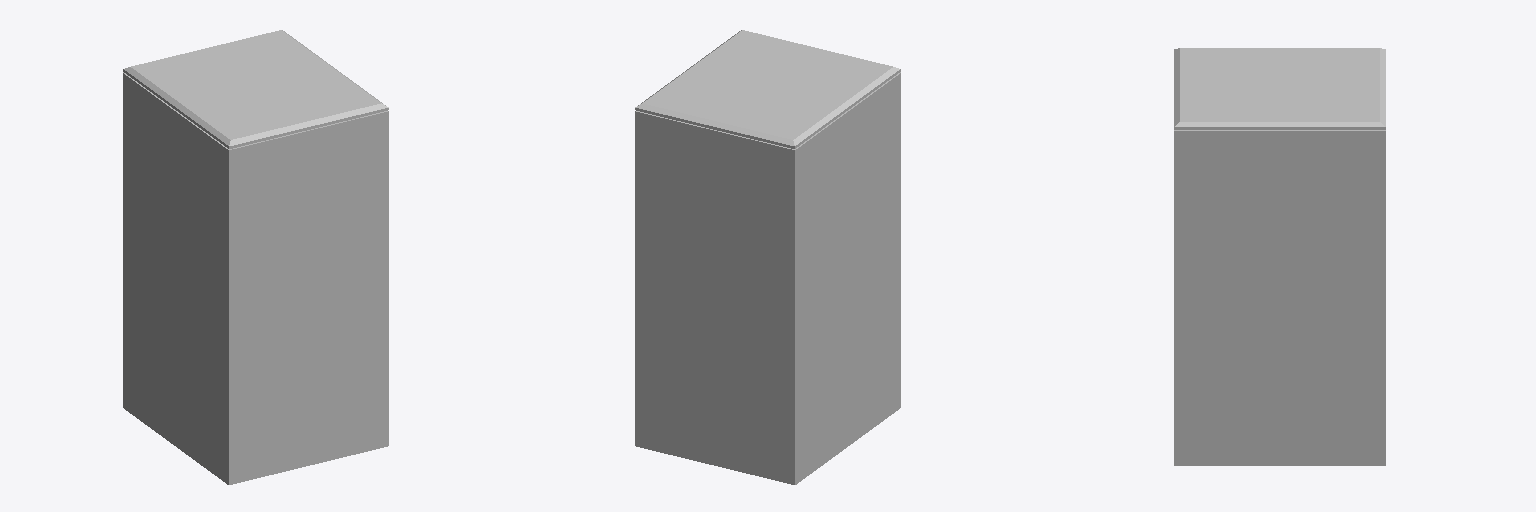
Rendered from build_test.obj.
3 renders of one model, left to right at view 1: azimuth 30°, elevation 25°; view 2: azimuth 150°, elevation 25°; view 3: azimuth 270°, elevation 25°, orthographic.
Parts seen in each view (by area): view 1: Plane, Plane.001; view 2: Plane, Plane.001; view 3: Plane, Plane.001.
Boxes of the visible parts, x1,y1,x2,y2 form: Plane: [123, 72, 388, 484]; Plane.001: [123, 30, 388, 148]; Plane: [635, 72, 900, 484]; Plane.001: [635, 30, 900, 148]; Plane: [1174, 130, 1385, 465]; Plane.001: [1174, 48, 1385, 129].
Size of the model in its own units: 2 by 4.07 by 2.29.